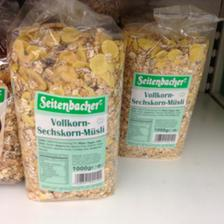Cerealien: (4, 20, 124, 200), (116, 21, 208, 155)
